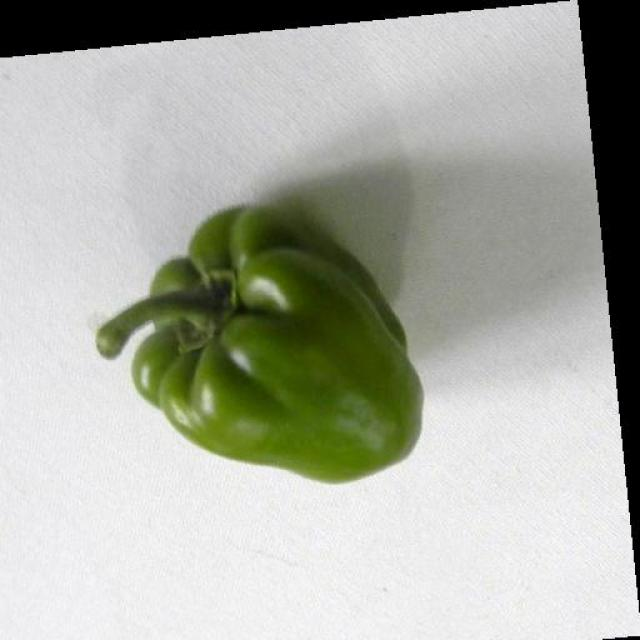Fresh_Capsicum: (106, 247, 432, 489)
